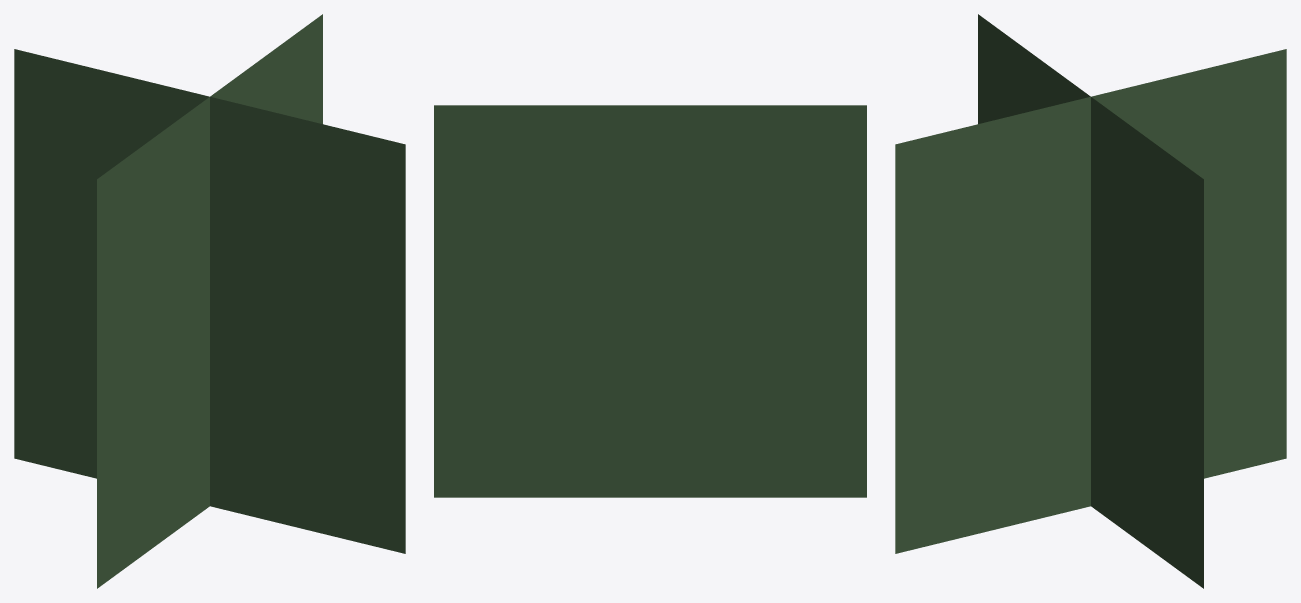
Rendered from Grass.fbx.
3 renders of one model, left to right at view 1: azimuth 30°, elevation 25°; view 2: azimuth 150°, elevation 25°; view 3: azimuth 270°, elevation 25°, orthographic. The views are drawn at different scales.
Visible parts, largest first — view 1: Grass; view 2: Grass; view 3: Grass.
Part boxes in pixels (bbox=[...]): Grass: bbox=[14, 14, 405, 588]; Grass: bbox=[434, 105, 866, 497]; Grass: bbox=[895, 14, 1286, 588].
Bounding box in the file's own units: 0.0142 × 0.0164 × 0.0142.
